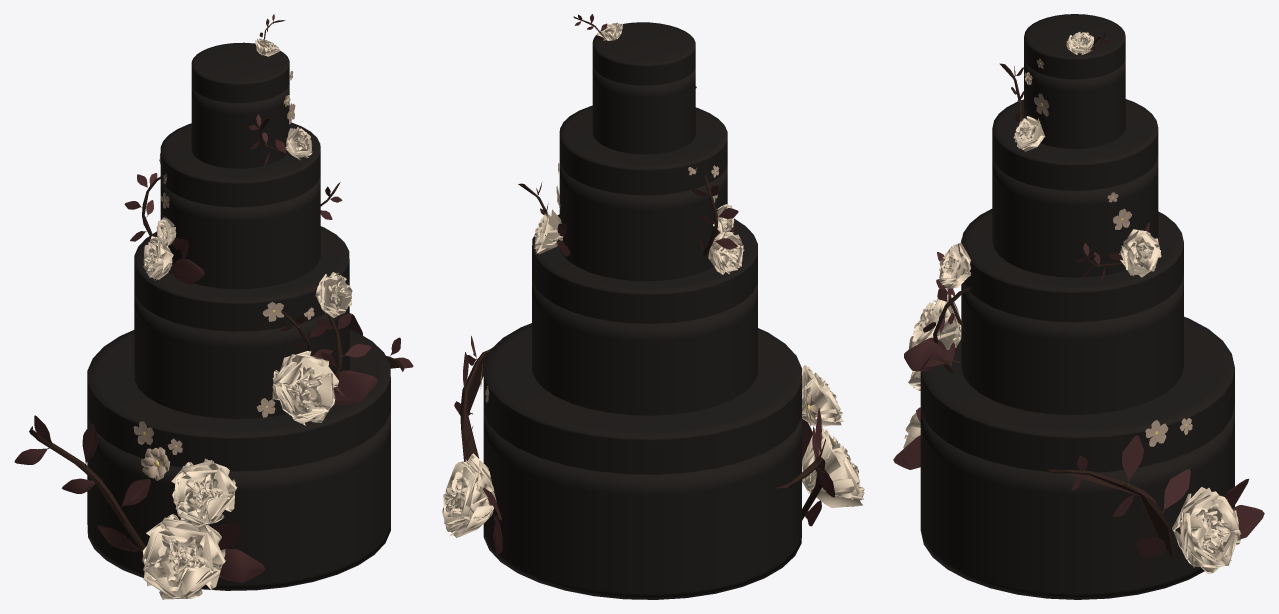
Rendered from 4-tier-black-roses-none.glb.
The picture shows the model from 3 angles, left to right: view 1: azimuth 30°, elevation 25°; view 2: azimuth 150°, elevation 25°; view 3: azimuth 270°, elevation 25°; orthographic projection. The views are drawn at different scales.
Visible parts, largest first — view 1: 3.001, 3, 2, 1, grid.013, Plane.024, grid.016, grid.012, grid.015, Plane.009, Plane.022, Plane.042 (+7 smaller); view 2: 3.001, 3, 2, 1, grid.020, grid.013, Plane.008, Plane.024, grid.012, grid.017, Plane.023, grid.019; view 3: 3.001, 3, 2, 1, grid.020, Plane.008, grid.016, grid.019, Plane.009, grid.015, grid.021, Plane.042 (+3 smaller).
Boxes of the visible parts, x1,y1,x2,y2 form: 3.001: (87,329,390,590); 3: (134,226,349,418); 2: (160,122,320,288); 1: (191,42,289,168); grid.013: (142,514,225,599); Plane.024: (14,415,150,552); grid.016: (272,351,338,425); grid.012: (171,458,237,527); grid.015: (315,272,352,317); Plane.009: (333,370,377,405); Plane.022: (219,549,265,582); Plane.042: (316,313,371,396); 3.001: (483,323,801,599); 3: (532,214,757,415); 2: (559,105,727,281); 1: (592,22,695,154); grid.020: (442,453,496,537); grid.013: (802,427,864,507); Plane.008: (454,336,491,461); Plane.024: (775,408,834,526); grid.012: (802,365,843,426); grid.017: (708,232,744,274); Plane.023: (691,175,738,255); grid.019: (534,209,562,254); 3.001: (920,316,1234,599); 3: (961,209,1183,415); 2: (992,99,1158,277); 1: (1024,14,1125,148); grid.020: (1172,487,1240,573); Plane.008: (1046,435,1190,557); grid.016: (909,296,961,349); grid.019: (1119,229,1161,277); Plane.009: (904,337,960,371); grid.015: (939,243,970,288); grid.021: (1013,116,1045,151); Plane.042: (920,287,970,372).
Size of the model in its own units: 6.25 by 7.85 by 5.05.
